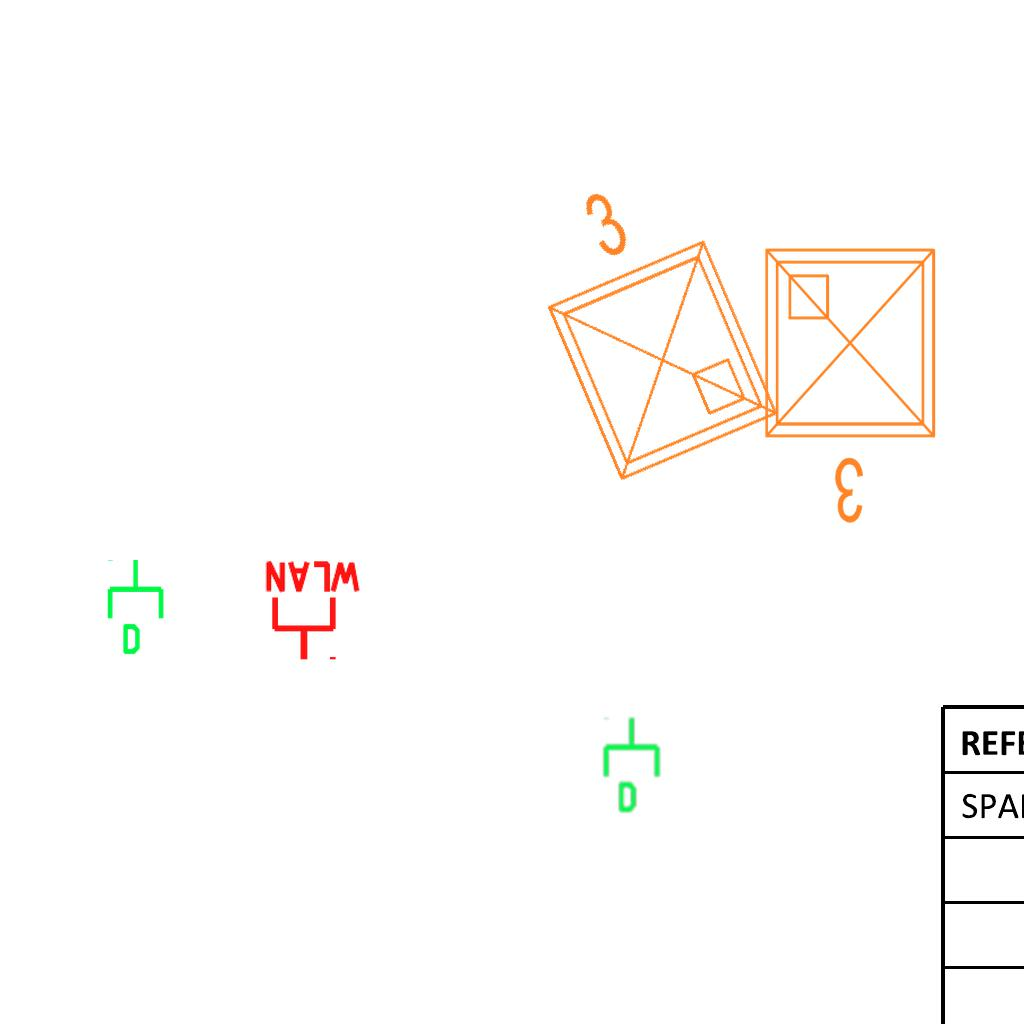Datenanschluss_einfach: (103, 557, 172, 657), (599, 715, 668, 815)
Einbaudownlights_LED_Konferenzraeume: (488, 145, 798, 503), (750, 234, 958, 534)
WLAN: (261, 559, 365, 664)
